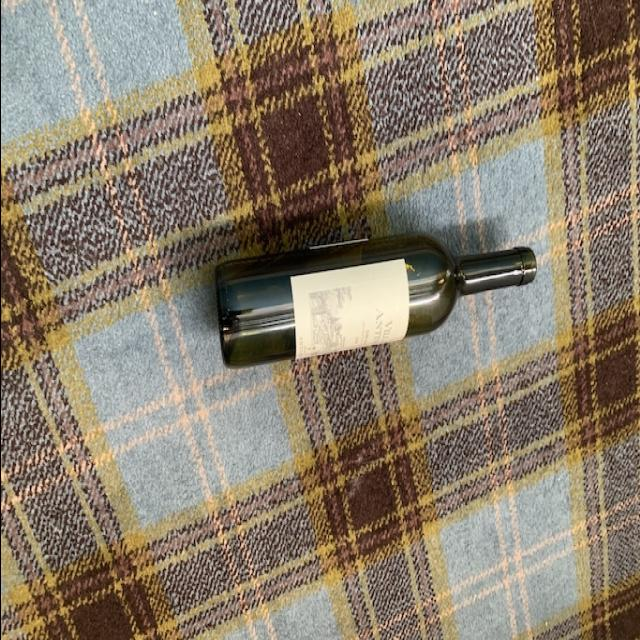Glass Bottle: (212, 228, 542, 376)
